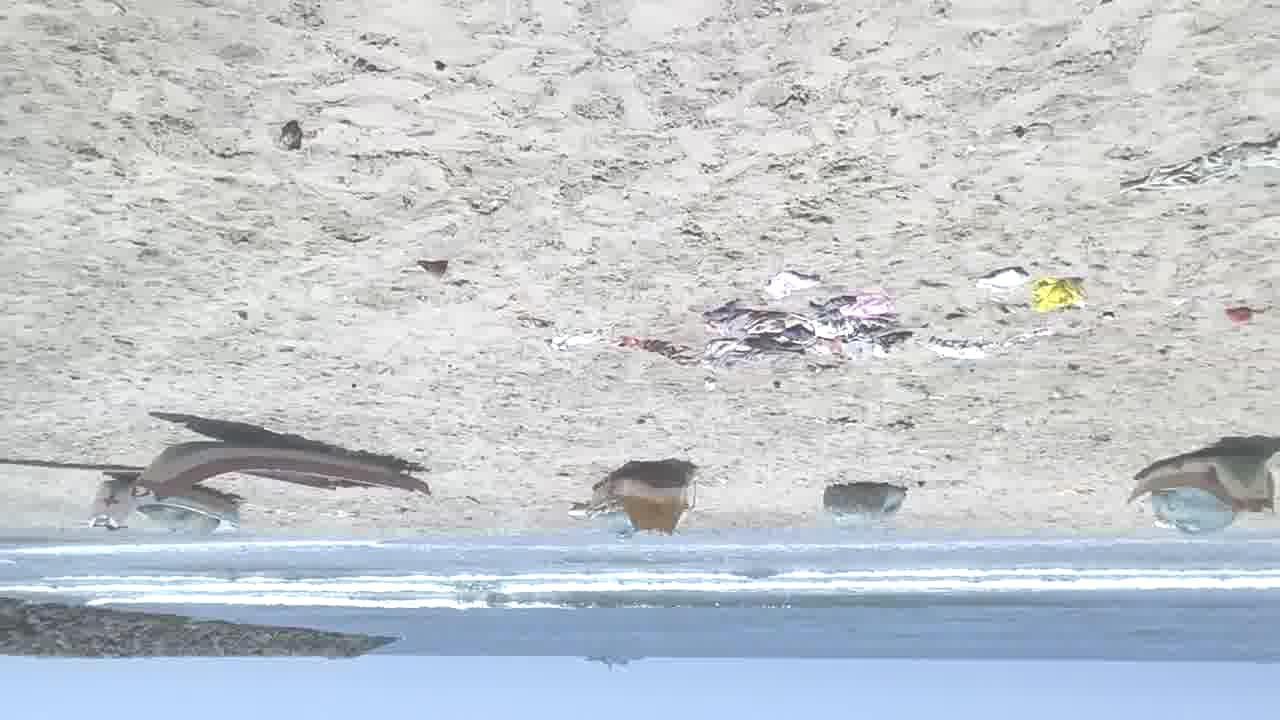large collection of objects: (139, 413, 439, 503), (1121, 436, 1276, 532), (570, 459, 702, 539), (94, 480, 243, 539), (819, 481, 913, 521)
obj: (692, 284, 992, 392), (1109, 133, 1279, 204), (540, 322, 686, 360), (1024, 273, 1088, 324), (1, 454, 146, 475), (970, 256, 1028, 306), (759, 264, 829, 298), (1222, 302, 1270, 334), (272, 106, 302, 154), (414, 252, 452, 278)
sand/background: (1, 538, 1279, 719)
